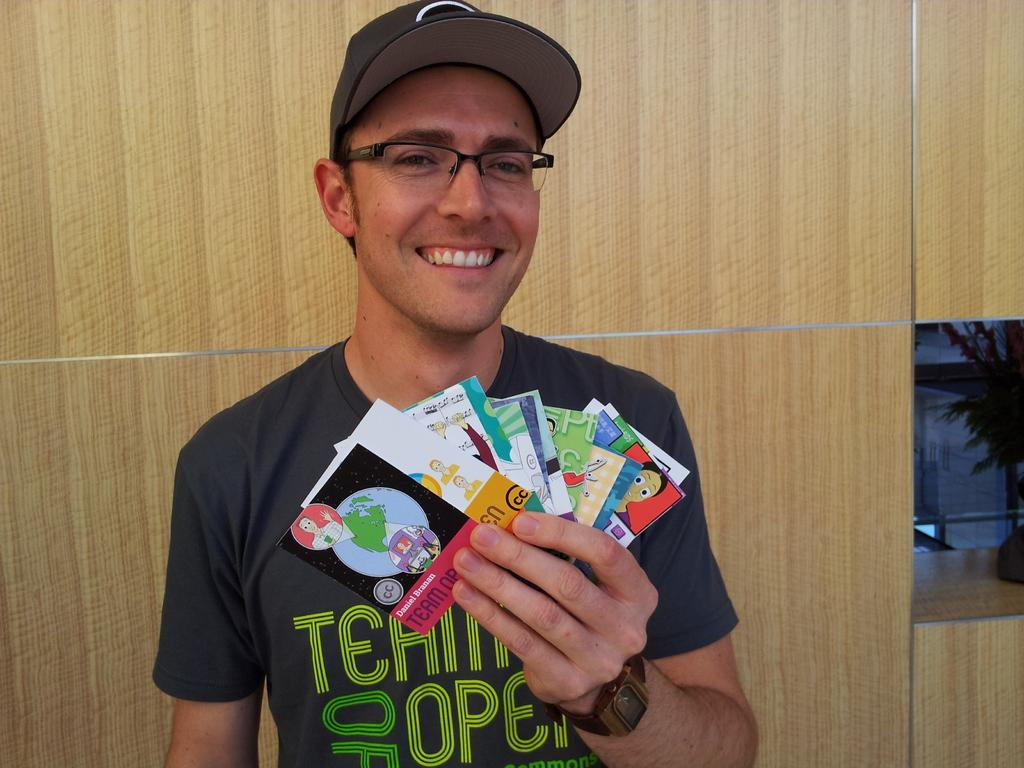Hat: (326, 0, 583, 146)
